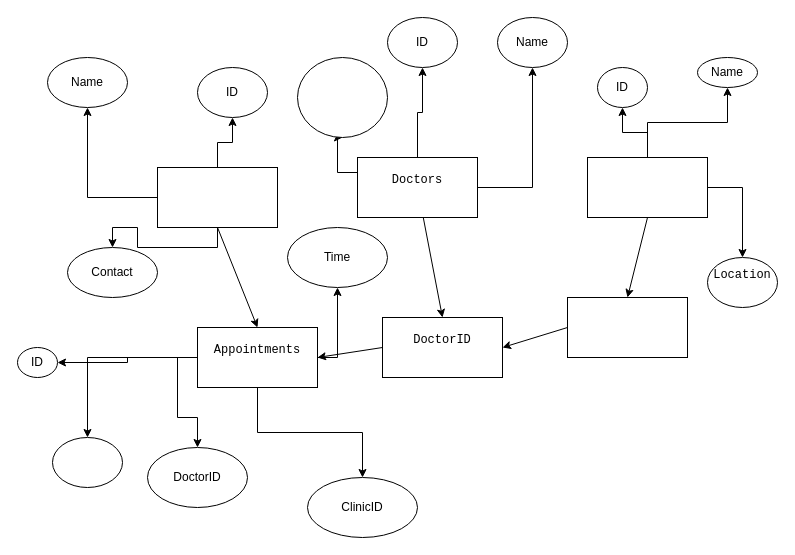
Image size: 795x555. Some labels were removed from this diagram. The shapes that lost their labels are listed below. From the top down, each one's centre as x and y in pixels, then its label:
(x=342, y=97): Speciality
(x=217, y=197): Patients
(x=647, y=187): Clinics
(x=627, y=327): C ClinicID
(x=87, y=462): PatientID
